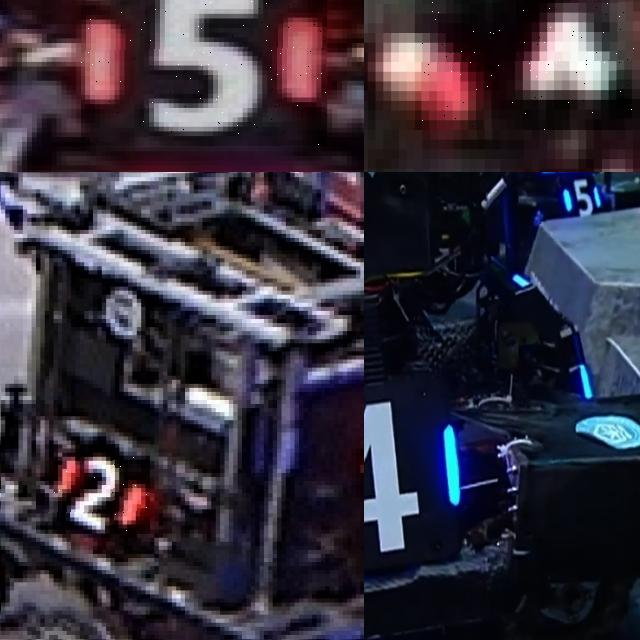B4: (364, 400, 459, 552)
B5: (562, 178, 599, 216)
R2: (45, 444, 150, 534)
R4: (414, 0, 640, 130)
R5: (81, 0, 327, 146)
